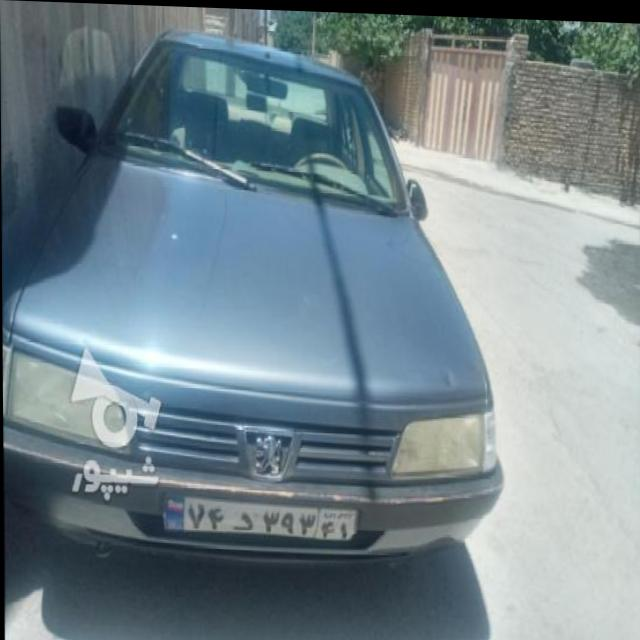licence: (158, 491, 356, 547)
